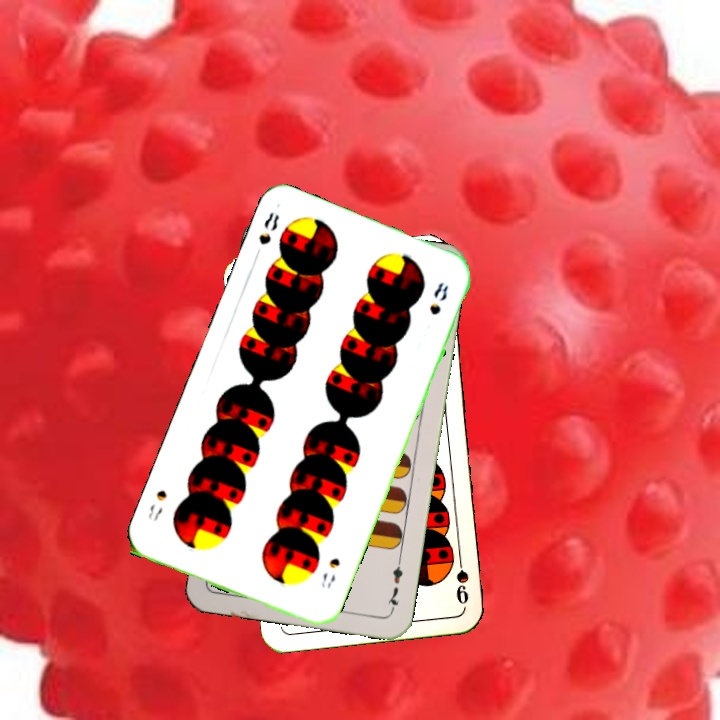E7: (383, 555, 405, 614)
S8: (250, 208, 282, 262), (317, 553, 343, 591)
S9: (452, 548, 472, 607)
